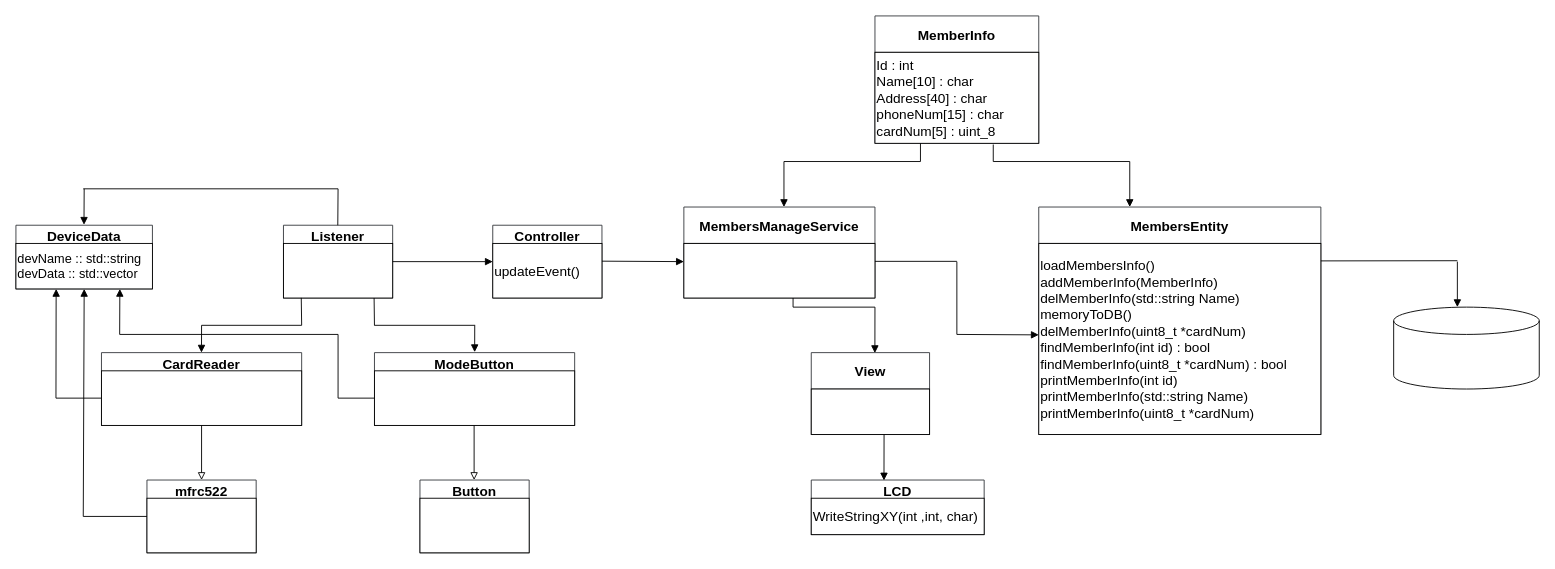
Image size: 1555x569. Some labels were removed from this diagram. The shapes that lost their labels are listed below. From the top down, each one's centre as x and y in pixels, then its label:
At (338,270): "checkEvent () checkRFID ()".
At (779,270): "updateStateEvent(std::string) checkCard(uint8_t *cardNum)".
At (1466,347): "DataBase memberList.bin".
At (201,397): "isCard() getCardNumber() : DeviceData".
At (474,397): "checkButton() : bool getButtonData() : DeviceData".
At (870,411): "setViewState(int) lcdView()".
At (201,525): "request() get_card_serial()".
At (474,525): "getState(): int".
